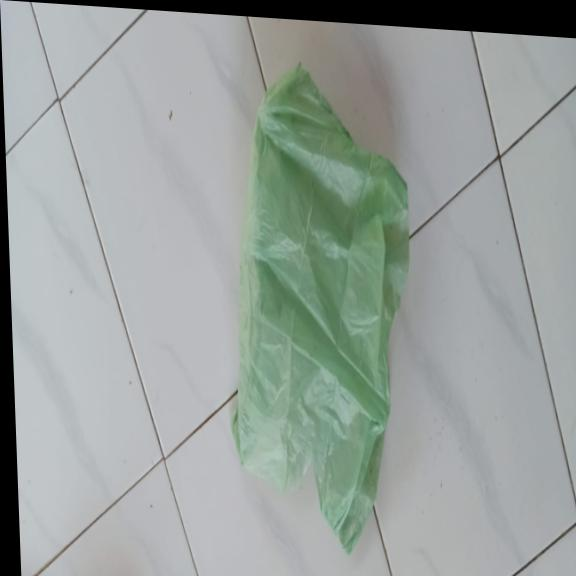Plastik: (218, 57, 423, 560)
